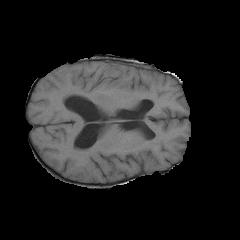glioma: (91, 62, 140, 93)
